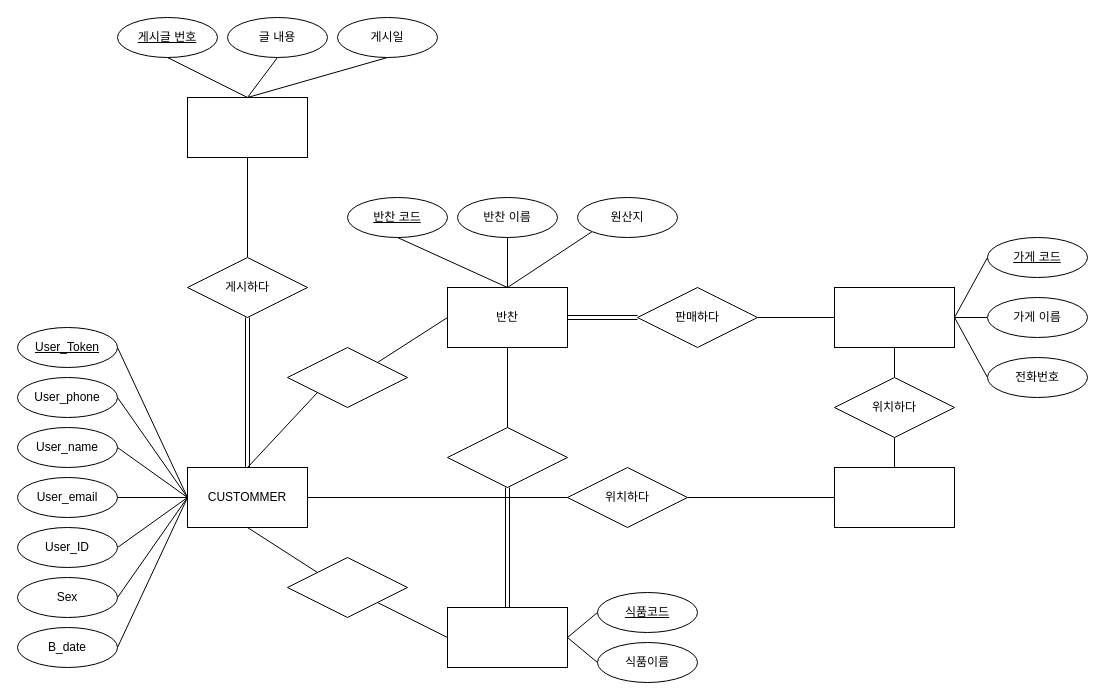
Image size: 1105x700. Some labels were removed from this diagram. The shapes that lost their labels are listed below. From the top down, each one's centre as x and y in pixels, then its label:
the point at 247,127: 게시판
the point at 894,317: STORE
the point at 347,377: 선호하다
the point at 507,457: 구성하다
the point at 894,497: Location
the point at 347,587: 알러지
the point at 507,637: 식품
